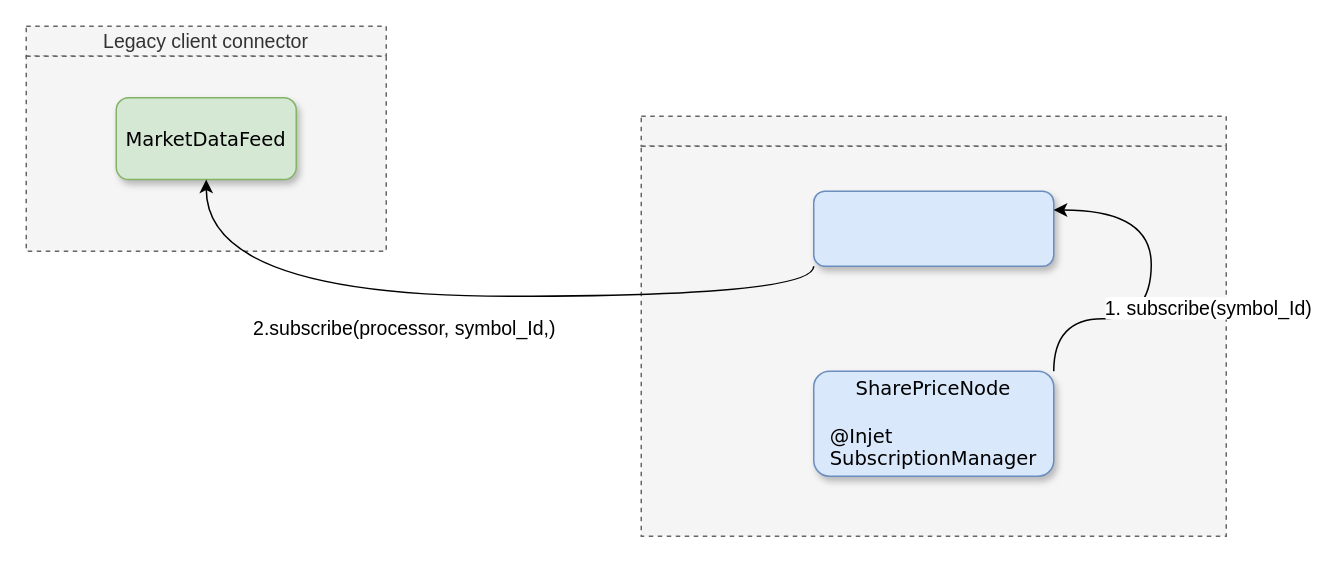
The diagram is 1337 pixels wide and 563 high, and some of its shapes have lost their labels. Here are the shapes that lost their labels. From the top down, the centre of each, then its label:
At [933,130]: "Fluxtion EventProcessor".
At [934,230]: "SubscriptionManager".
